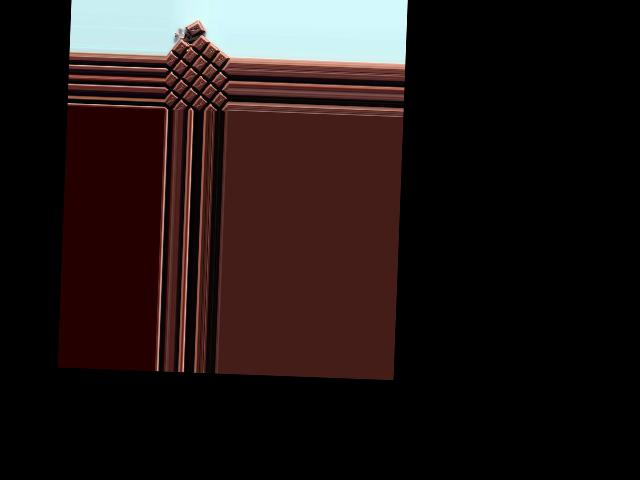chocolate: (165, 28, 228, 112)
